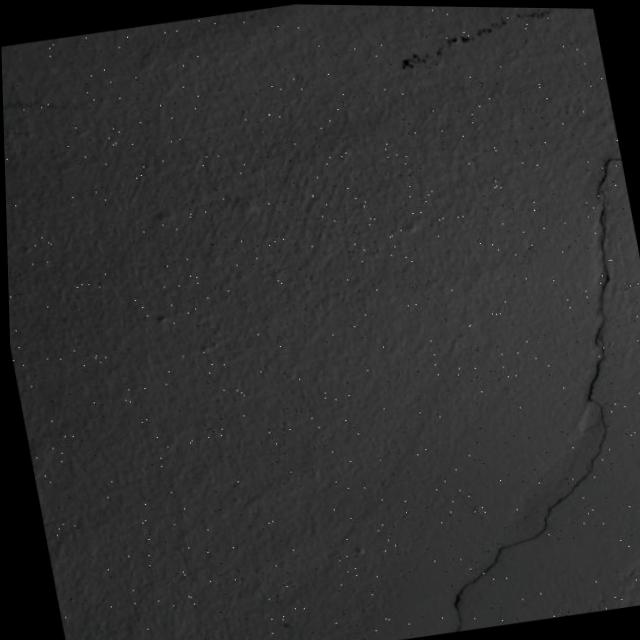Crack: (349, 145, 640, 635)
